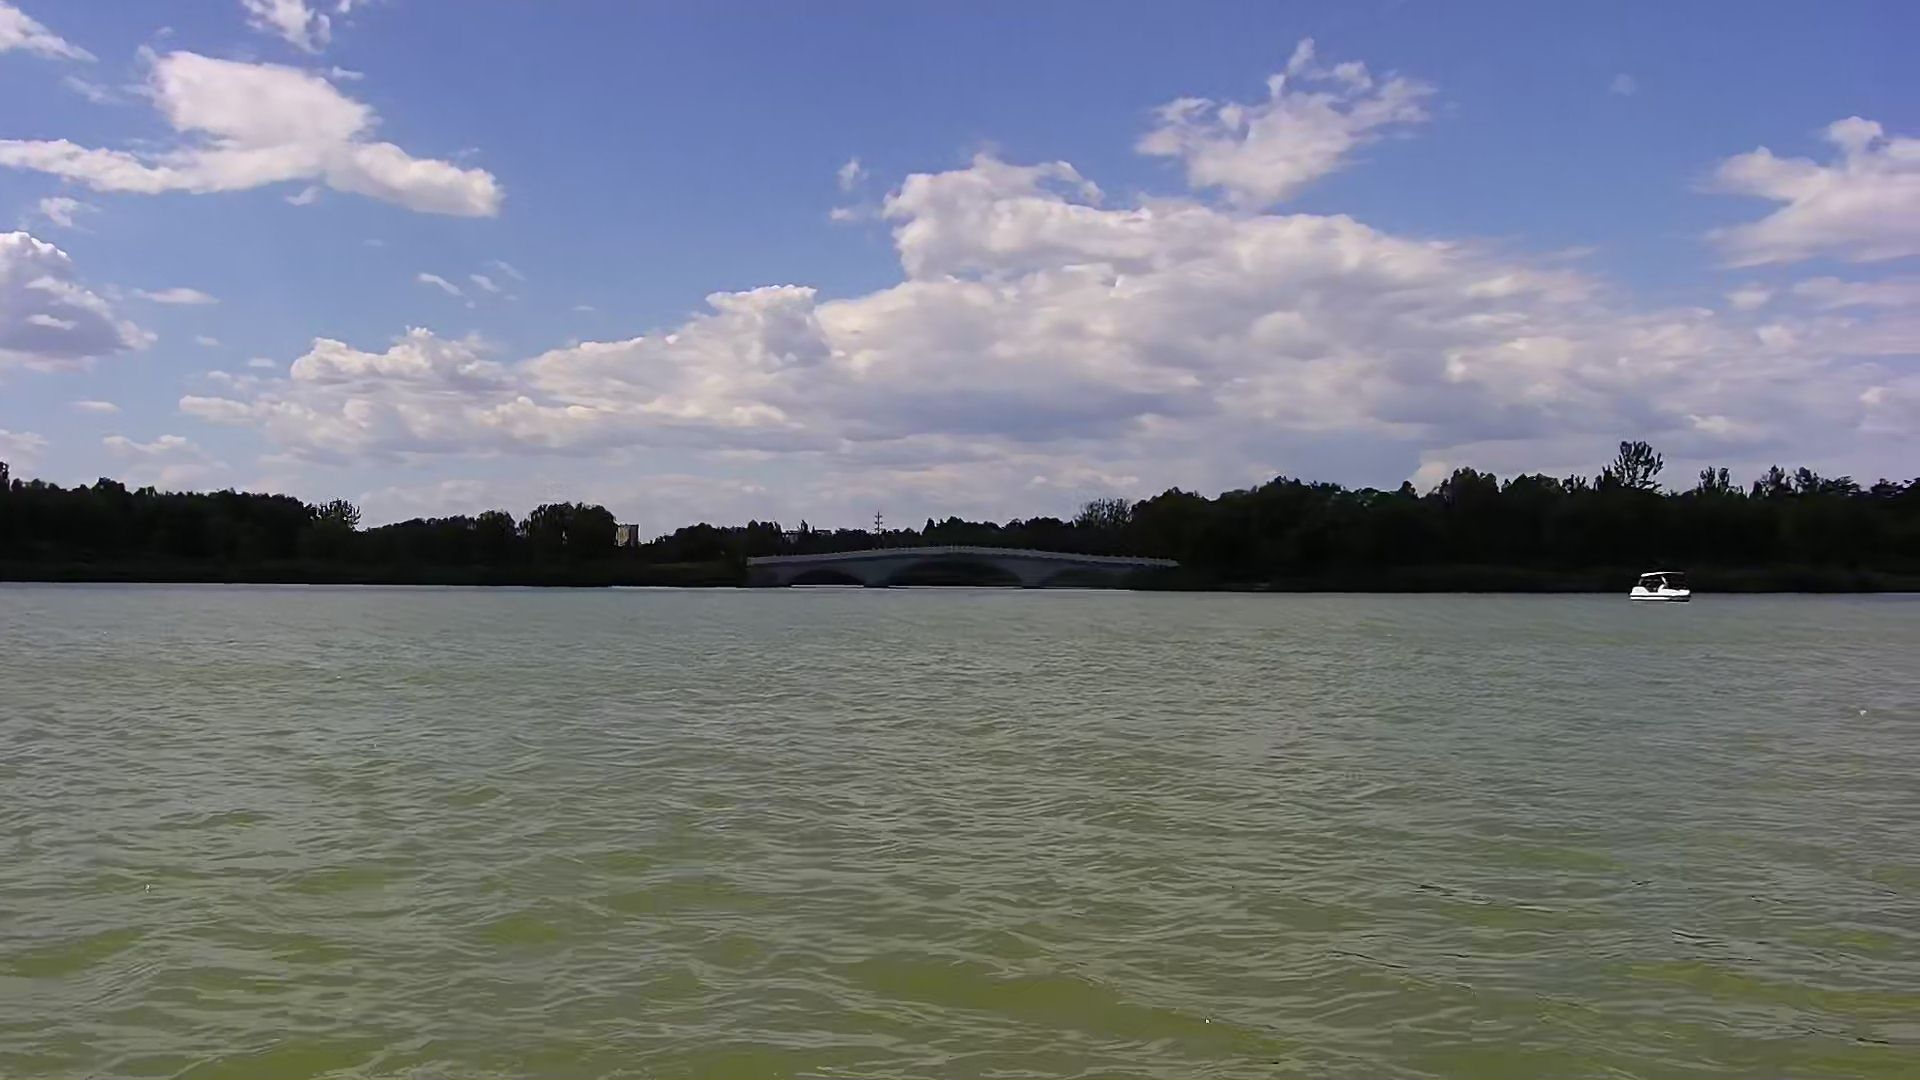boat: (1626, 564, 1696, 607)
bridge: (738, 539, 1189, 600)
